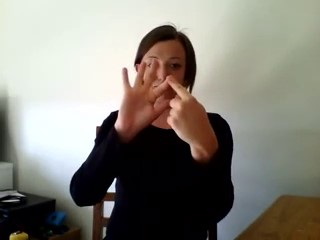E: (109, 49, 212, 153)
